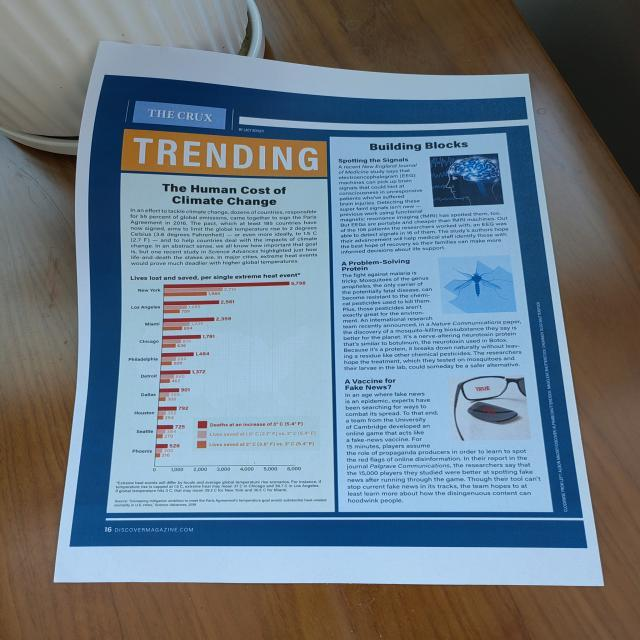document: (55, 42, 602, 585)
